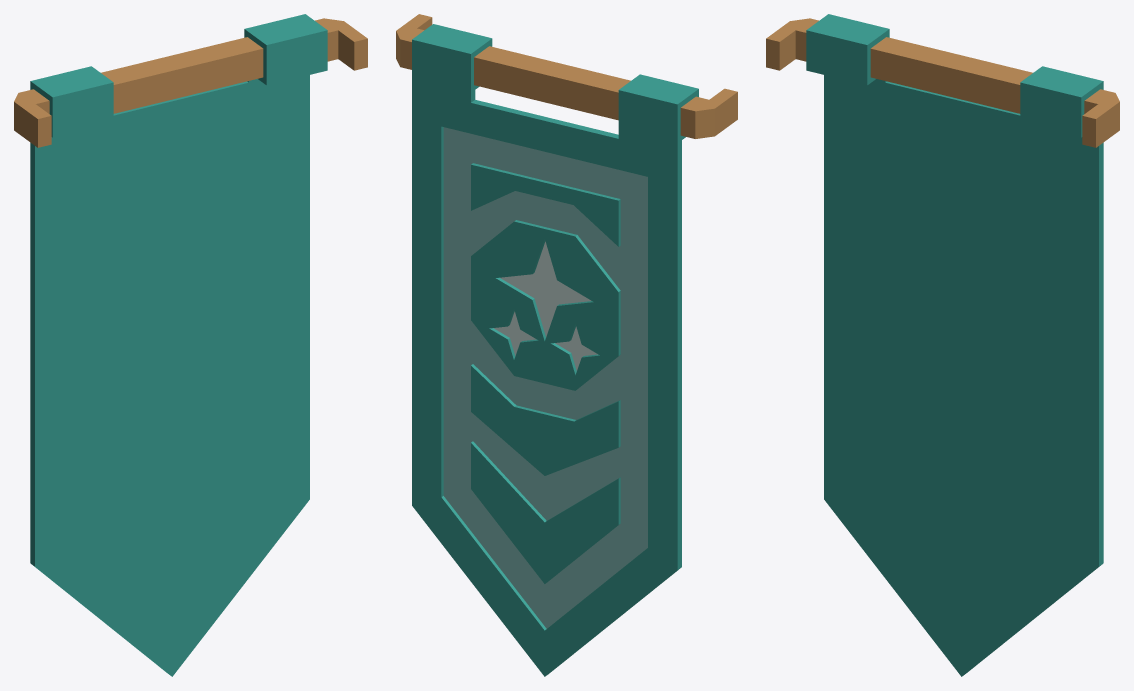
Rendered from Prop_Flag_Stars.fbx.
The picture shows the model from 3 angles, left to right: view 1: azimuth 30°, elevation 25°; view 2: azimuth 150°, elevation 25°; view 3: azimuth 330°, elevation 25°; orthographic projection. The views are drawn at different scales.
Visible parts, largest first — view 1: object2, object1; view 2: object2, object1; view 3: object2, object1.
Boxes of the visible parts, <box> form: object2: <box>30,14,327,676</box>; object1: <box>14,18,367,147</box>; object2: <box>412,24,698,676</box>; object1: <box>396,14,737,138</box>; object2: <box>806,14,1103,676</box>; object1: <box>766,18,1119,147</box>.
Size of the model in its own units: 0.54 by 0.979 by 0.099.
